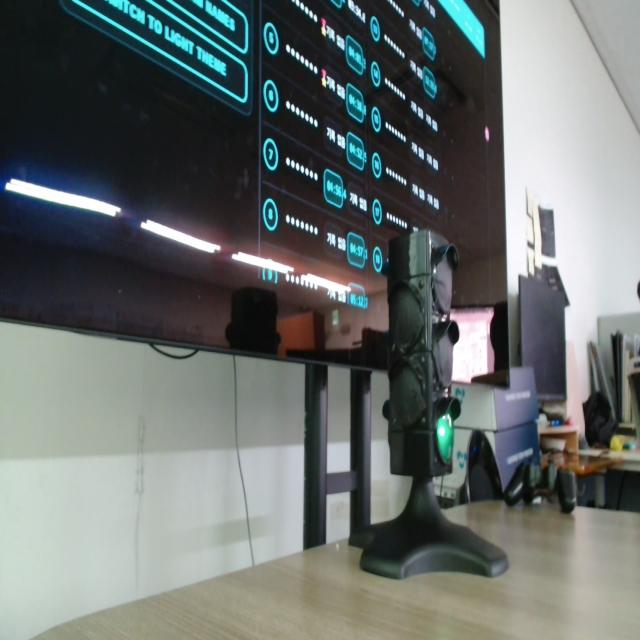green_light: (437, 413, 453, 463)
